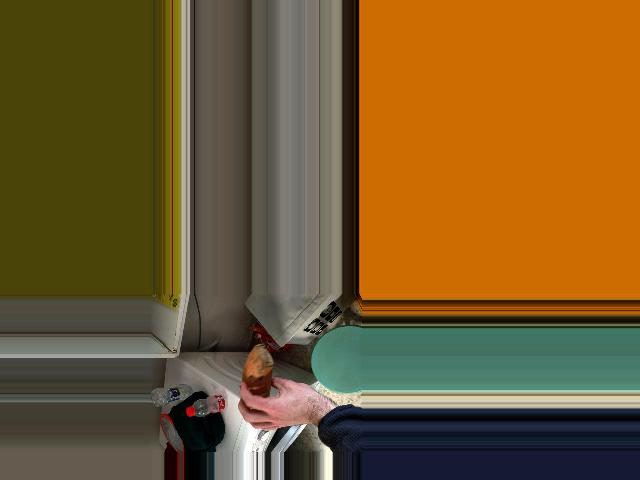sweet_potato: (244, 360, 279, 407)
